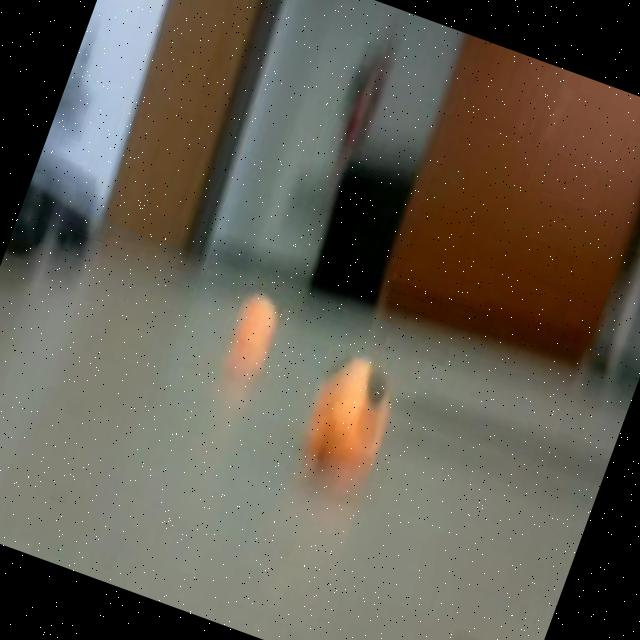ping-pong-ball: (286, 336, 414, 502), (220, 282, 293, 374)
